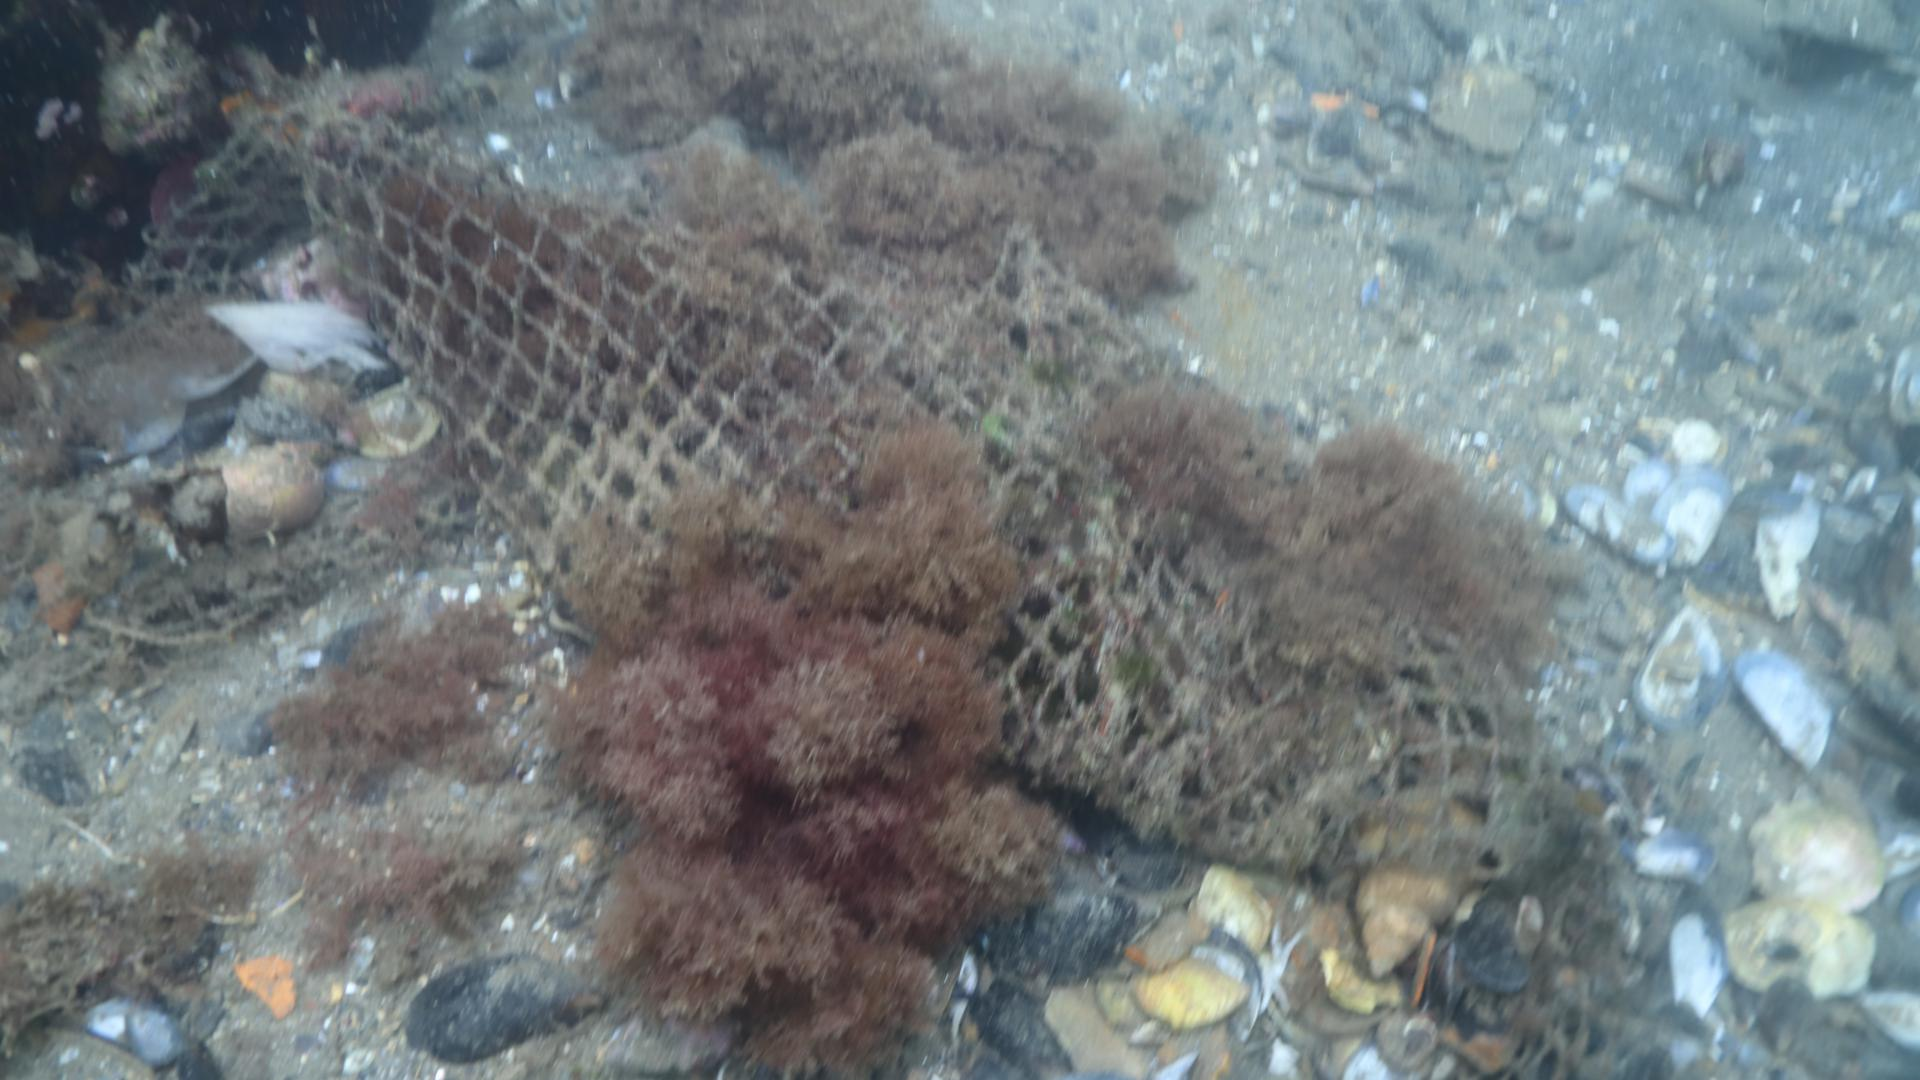fish net: (124, 98, 1519, 872)
